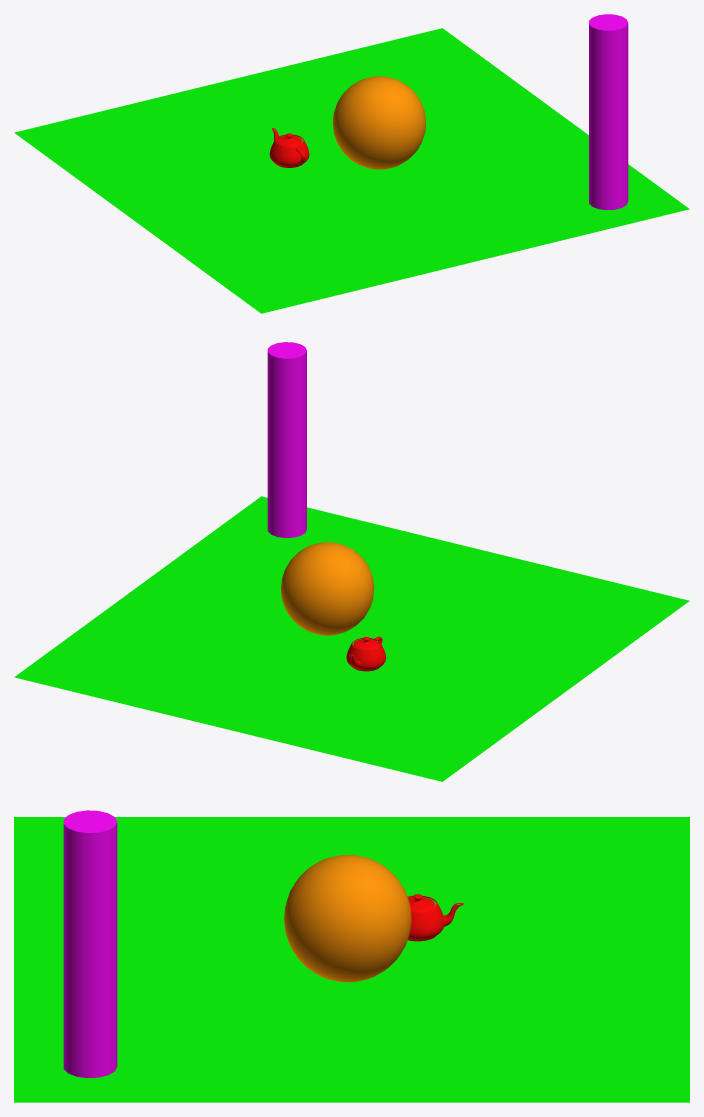
The model's file is ejemplo-5.glb.
The picture shows the model from 3 angles, top to bottom: view 1: azimuth 30°, elevation 25°; view 2: azimuth 150°, elevation 25°; view 3: azimuth 270°, elevation 25°; orthographic projection. The views are drawn at different scales.
Visible parts, largest first — view 1: Plane001, Cylinder001, Sphere001, Teapot001; view 2: Plane001, Cylinder001, Sphere001, Teapot001; view 3: Plane001, Cylinder001, Sphere001, Teapot001.
Boxes of the visible parts, x1,y1,x2,y2 form: Plane001: [14, 28, 689, 313]; Cylinder001: [589, 14, 628, 210]; Sphere001: [333, 76, 425, 169]; Teapot001: [269, 128, 309, 167]; Plane001: [14, 496, 689, 781]; Cylinder001: [267, 342, 306, 537]; Sphere001: [281, 542, 374, 635]; Teapot001: [346, 636, 386, 671]; Plane001: [14, 817, 689, 1102]; Cylinder001: [63, 810, 117, 1078]; Sphere001: [284, 855, 411, 982]; Teapot001: [407, 894, 463, 941].
Size of the model in its own units: 0.635 by 0.254 by 0.635.
